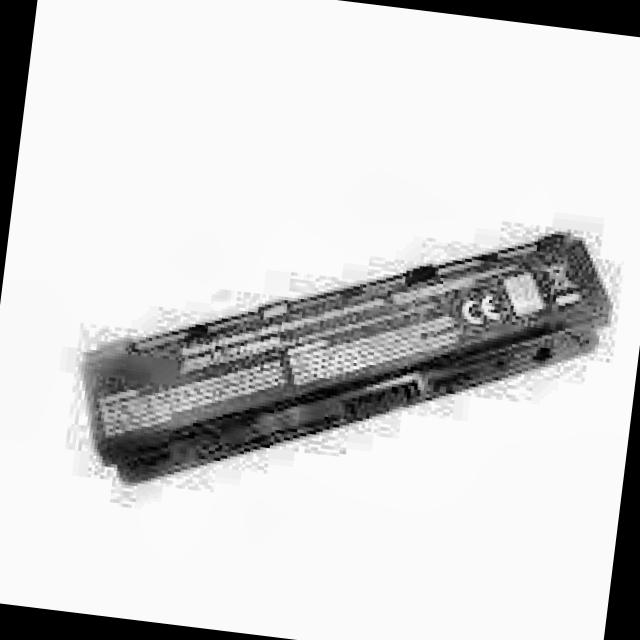Battery: (68, 176, 614, 537)
